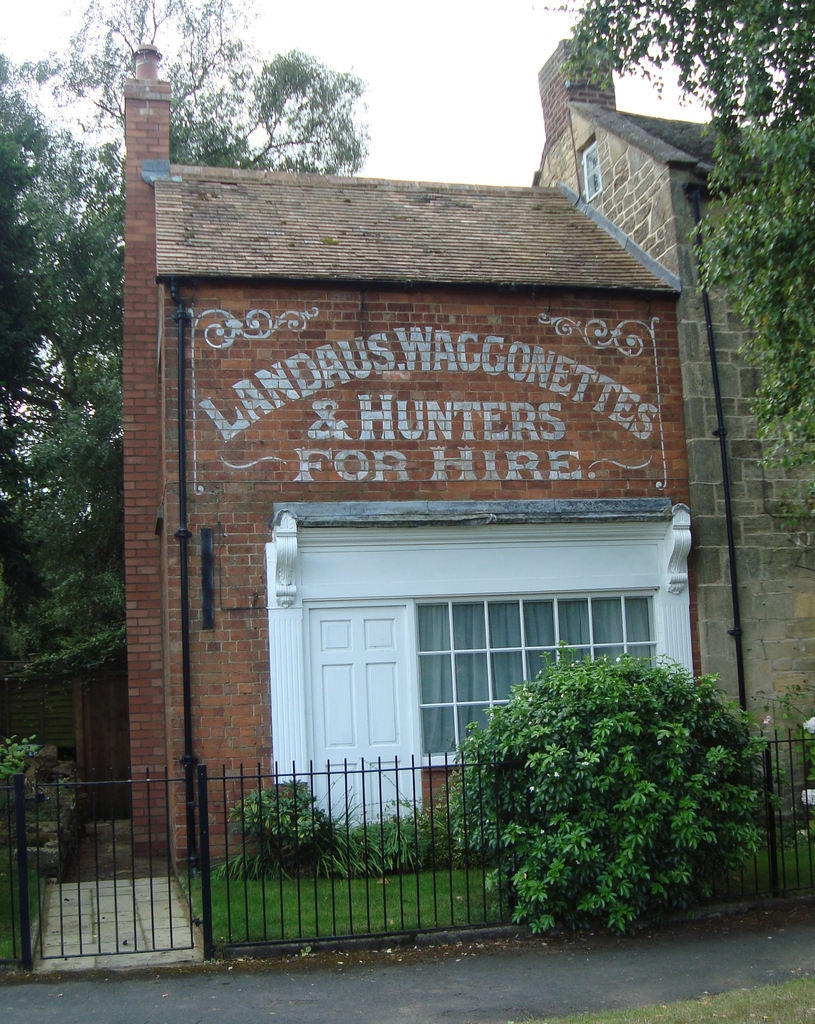door: (308, 612, 405, 812)
